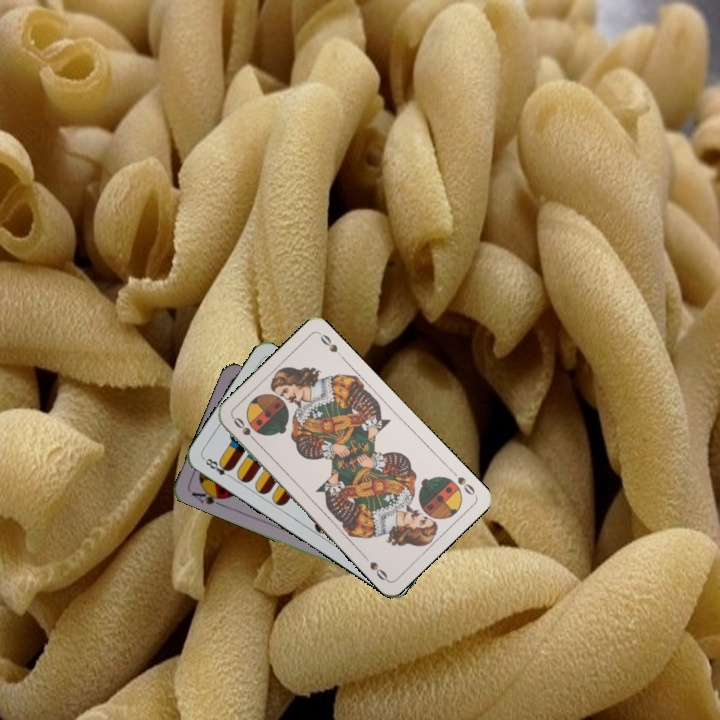E8: (200, 454, 236, 482)
SA: (187, 484, 228, 509)
SO: (229, 413, 261, 446), (446, 466, 478, 498)
